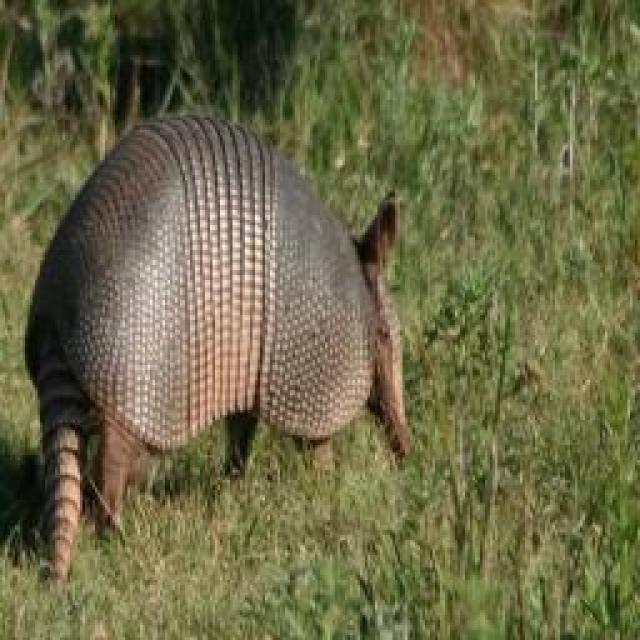pig: (20, 110, 412, 592)
